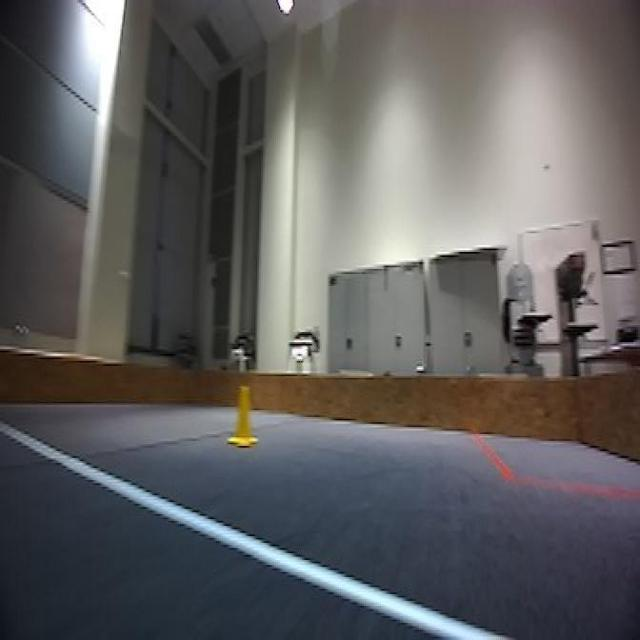frc_cone: (228, 380, 259, 451)
